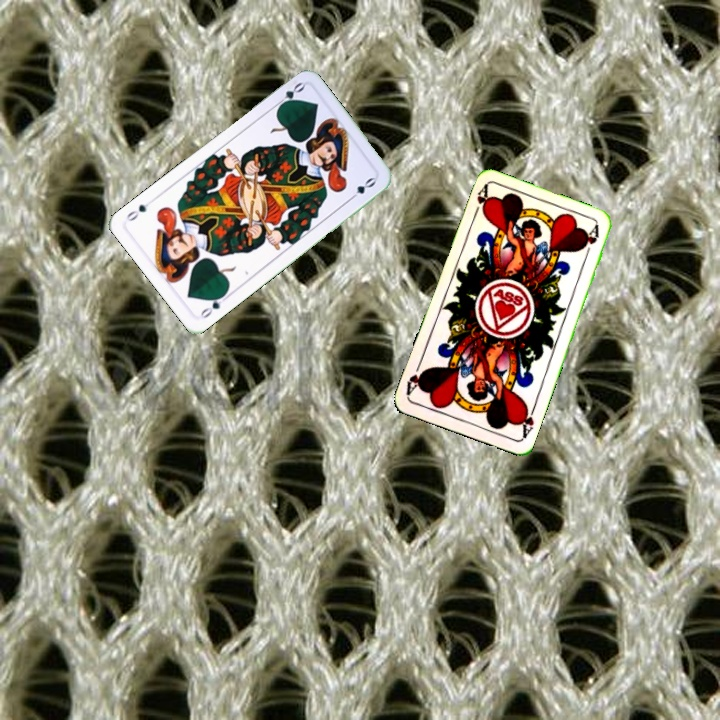GO: (271, 78, 307, 111), (196, 289, 231, 321)
HA: (515, 401, 538, 441), (469, 182, 491, 221)
